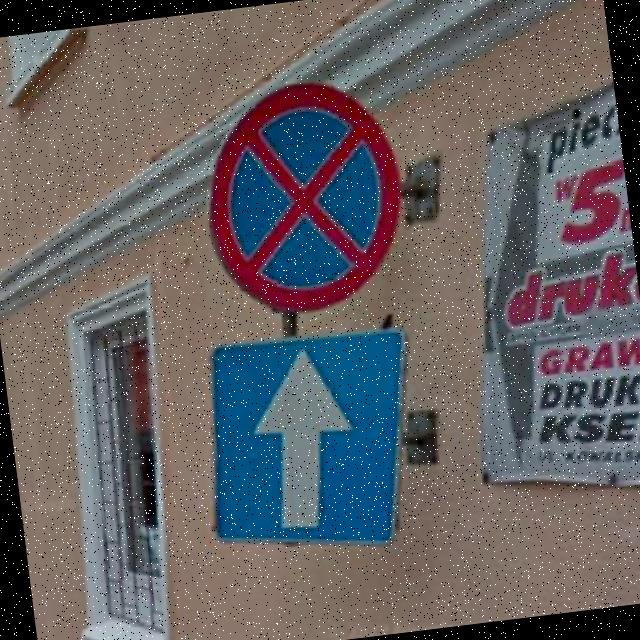Zakaz zatrzymywania sie: (190, 68, 418, 326)
